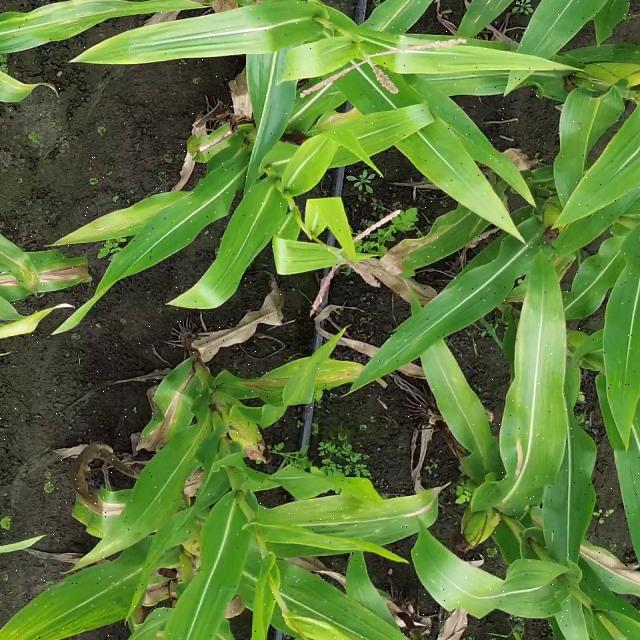gray-leaf-spot: (0, 4, 169, 60), (447, 0, 527, 60)
northern-leaf-blight: (239, 325, 393, 413), (0, 221, 135, 302), (484, 399, 566, 495), (141, 363, 205, 463)
southern-leaf-blight: (298, 485, 478, 600)
